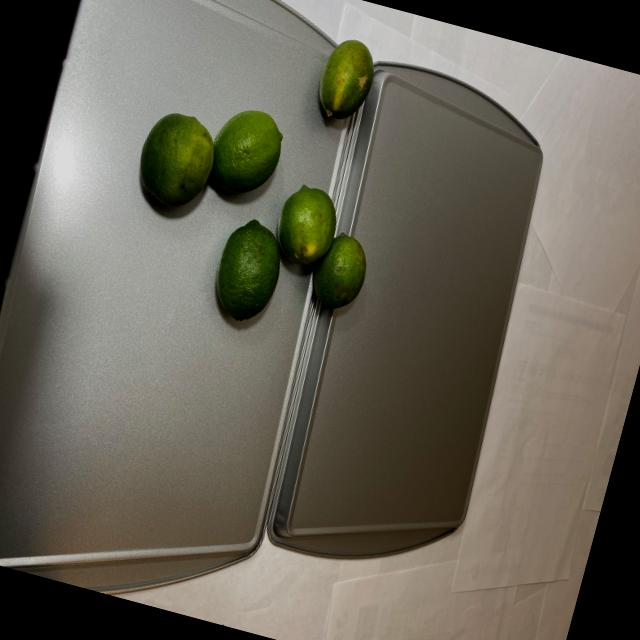lemon: (107, 89, 402, 363), (310, 31, 380, 124)
